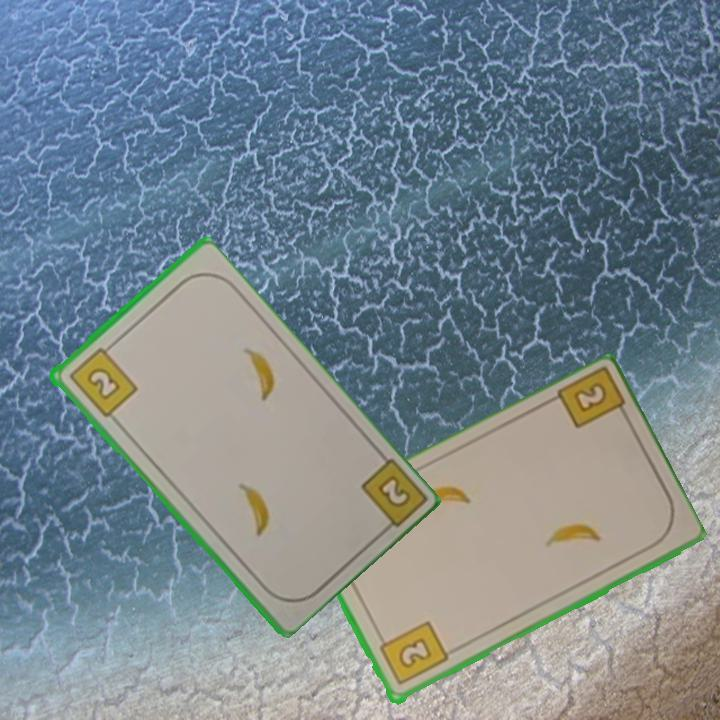2b: (64, 340, 140, 421), (356, 454, 426, 539), (374, 618, 451, 689), (551, 366, 633, 432)
